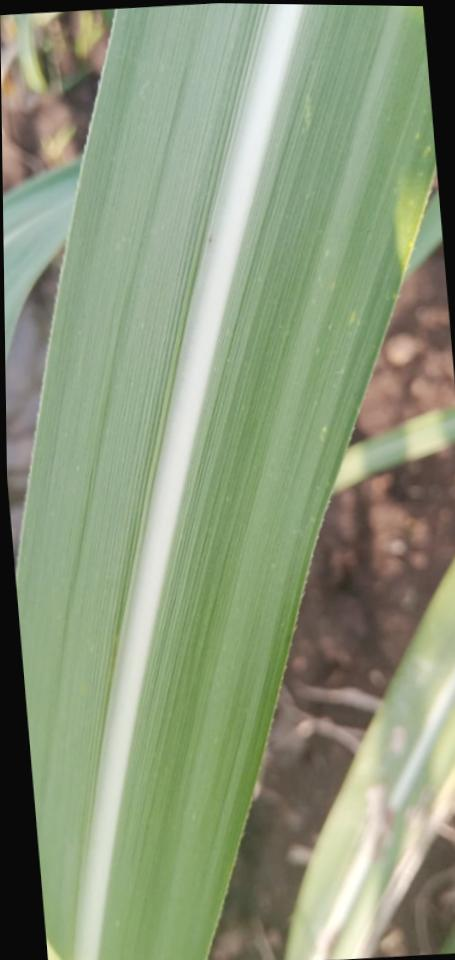Healthy: (98, 5, 435, 960), (15, 3, 268, 960)
